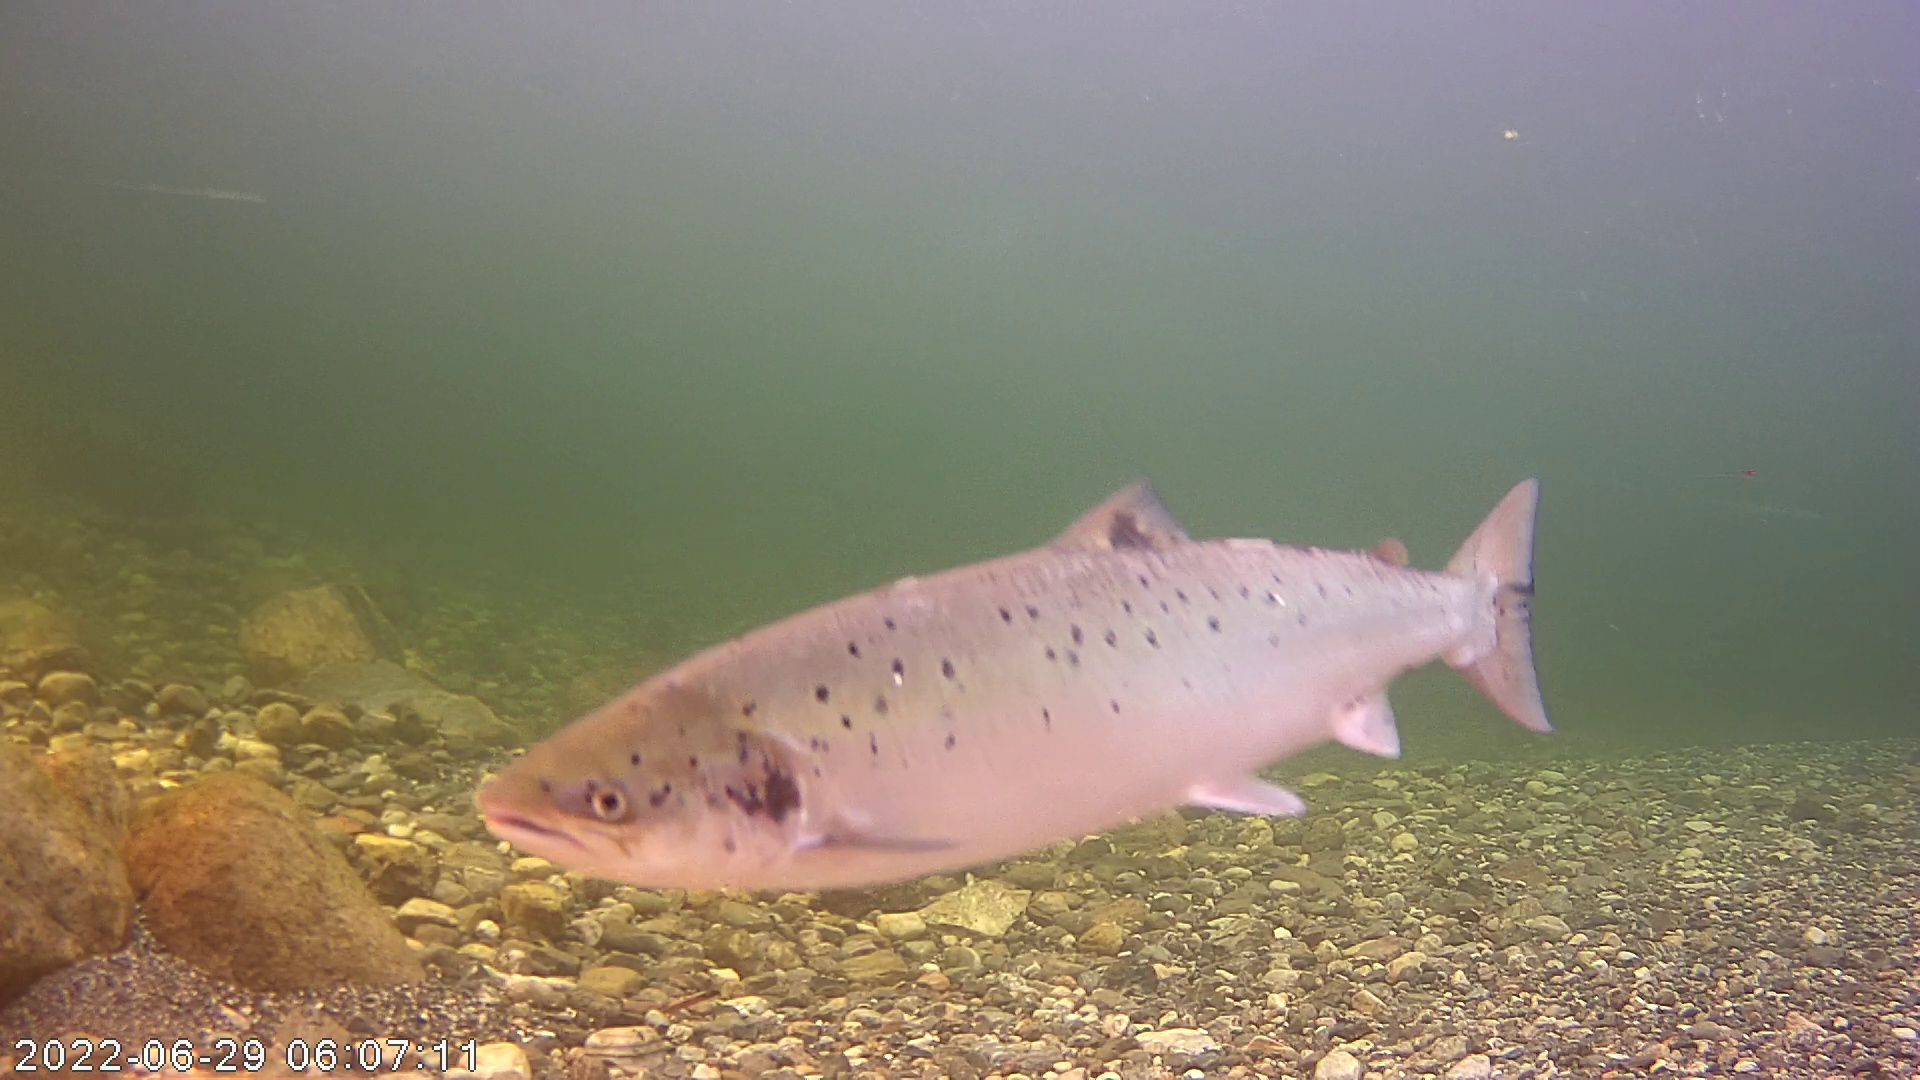salmon: (498, 398, 1538, 884)
